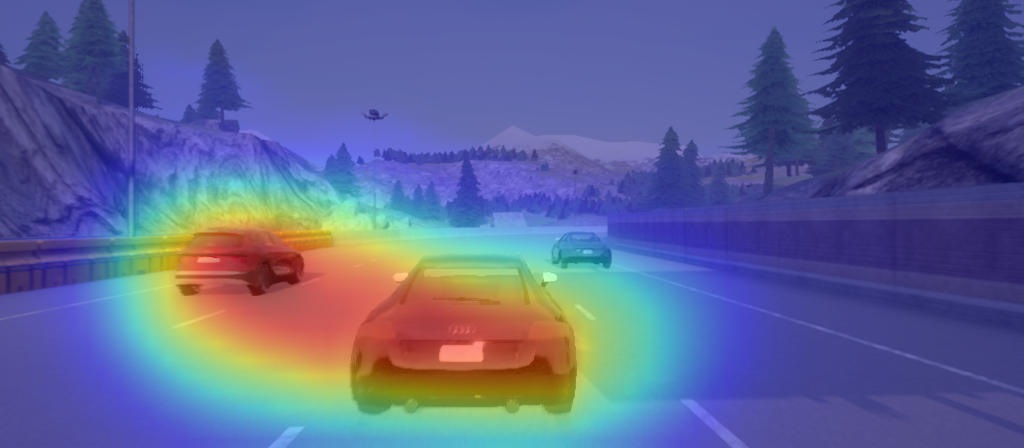Barrier: (659, 191, 1017, 282), (4, 240, 168, 275)
Car: (344, 250, 584, 424), (172, 222, 310, 303), (546, 230, 616, 274)
Lane Marker: (673, 391, 750, 448), (167, 303, 229, 335), (257, 421, 317, 448), (574, 297, 604, 331)
Light Pole: (120, 1, 147, 238), (356, 103, 396, 232)
